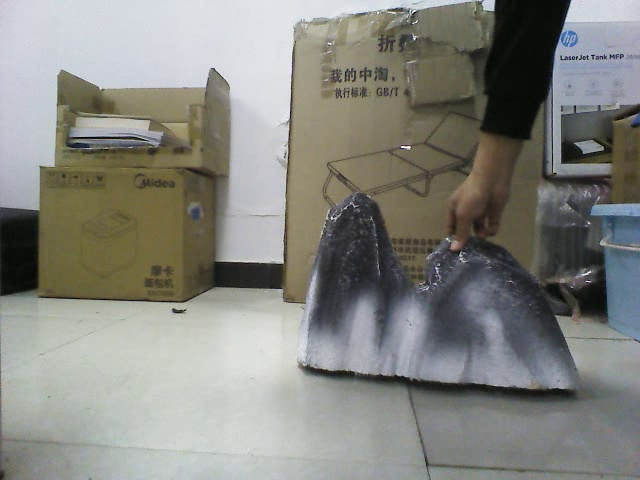rock: (293, 191, 587, 391)
